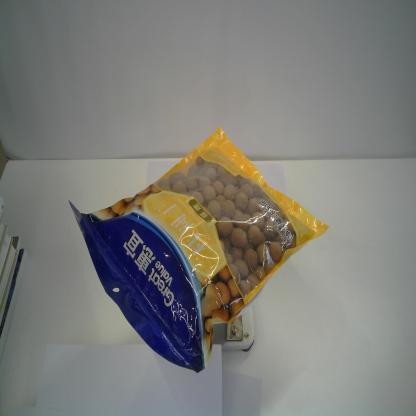Dried Food: (68, 126, 329, 374)
